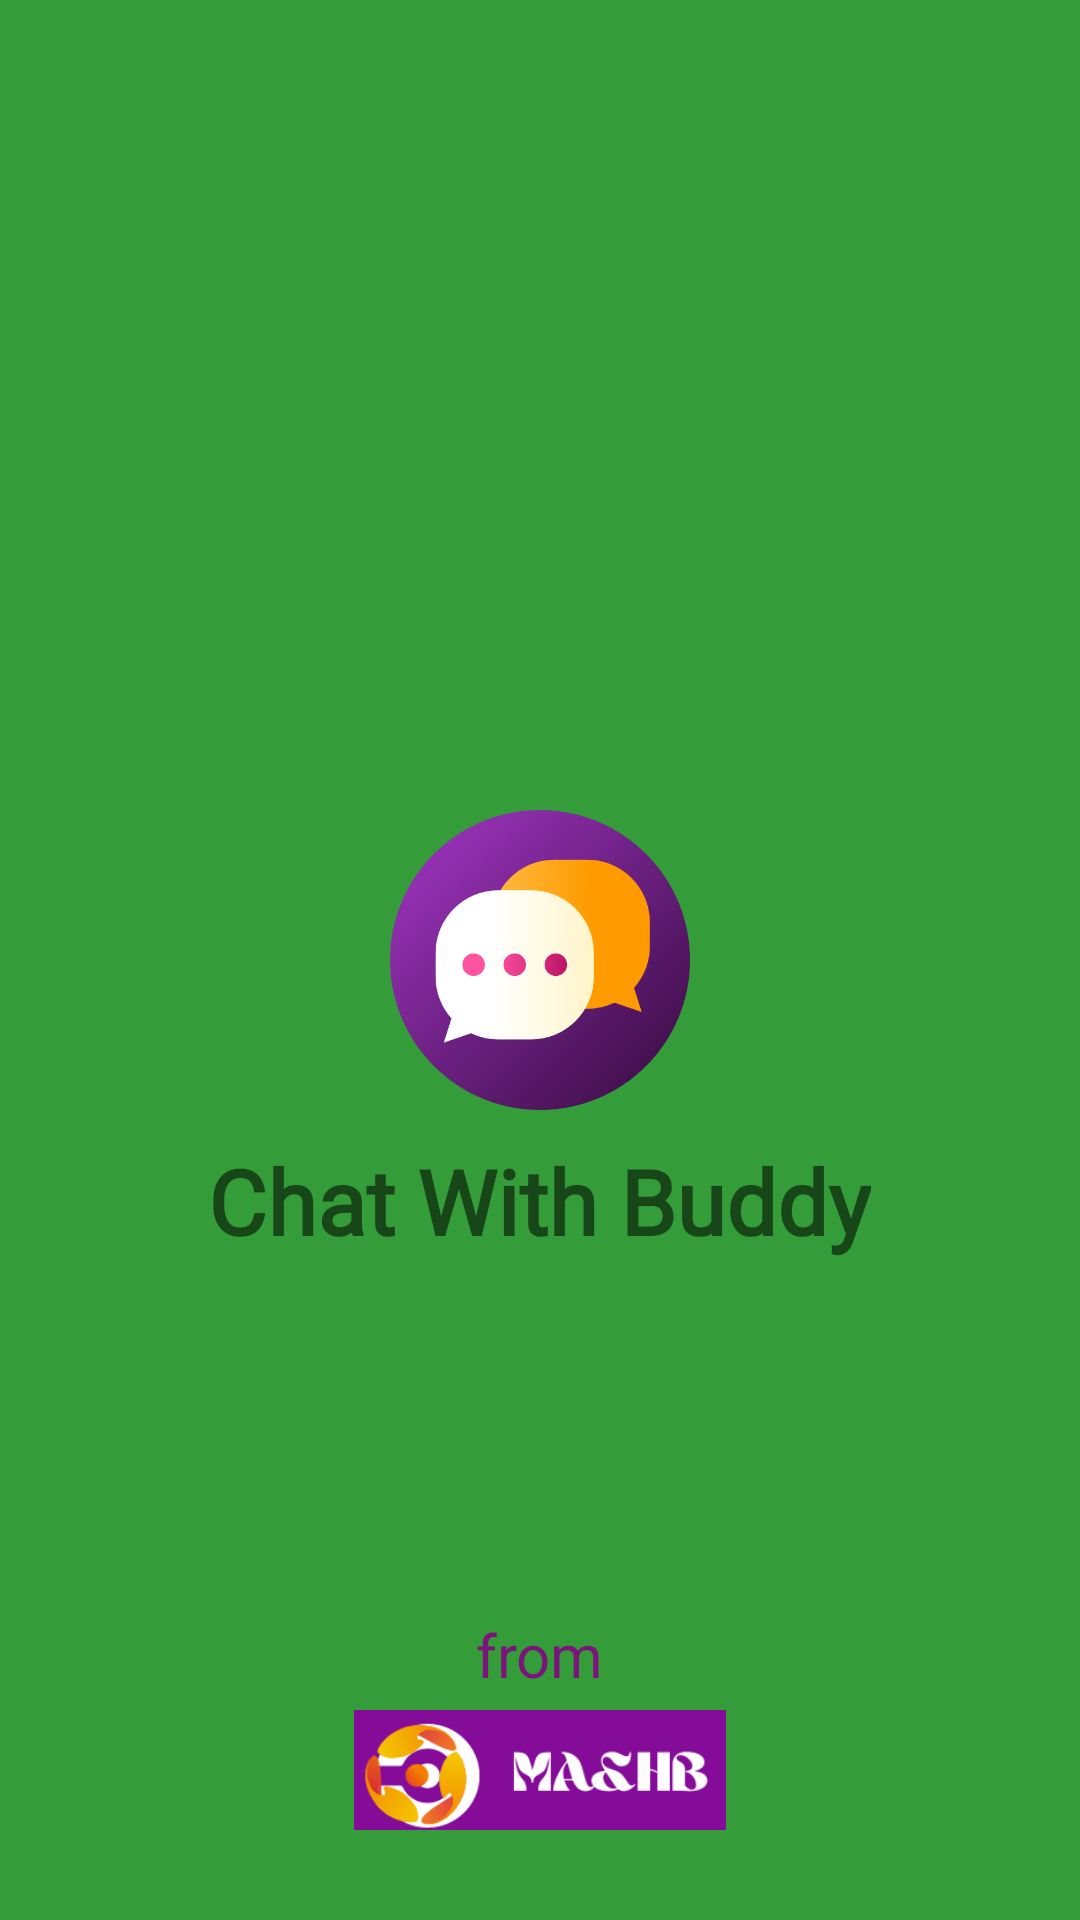

Icons on this 1080px×1920px Android screen, each with the point to tap as [x,y]:
chatbubble: [540,960]
